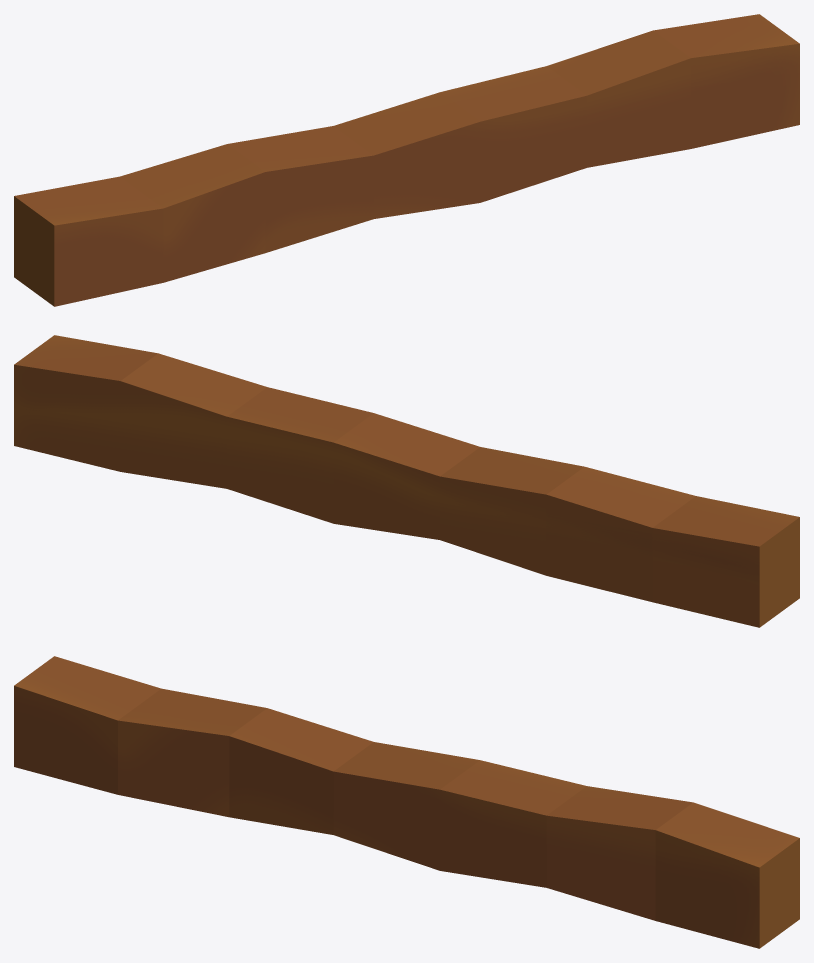
The model's file is RW Pillers 7.fbx.
3 views of the same model, one above another, from view 1: azimuth 30°, elevation 25°; view 2: azimuth 150°, elevation 25°; view 3: azimuth 330°, elevation 25° (orthographic).
Visible parts, largest first — view 1: RW Pillers 7; view 2: RW Pillers 7; view 3: RW Pillers 7.
Boxes of the visible parts, x1,y1,x2,y2 form: RW Pillers 7: (14, 14, 799, 306); RW Pillers 7: (14, 335, 799, 627); RW Pillers 7: (14, 656, 799, 948).
Bounding box in the file's own units: 273 × 31.82 × 27.69.
Materials: 1 (1 with a texture image).
